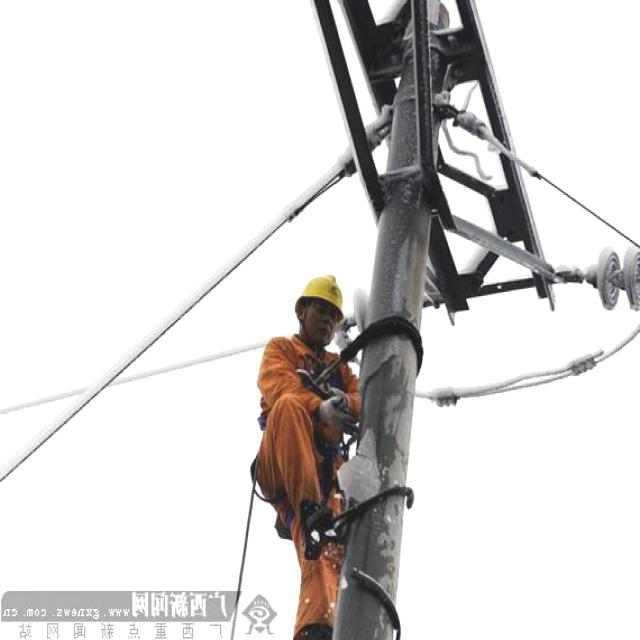face_nomask: (304, 303, 337, 345)
hand_glove: (316, 394, 352, 442)
head_helmet: (293, 272, 345, 317)
person: (254, 275, 358, 637)
